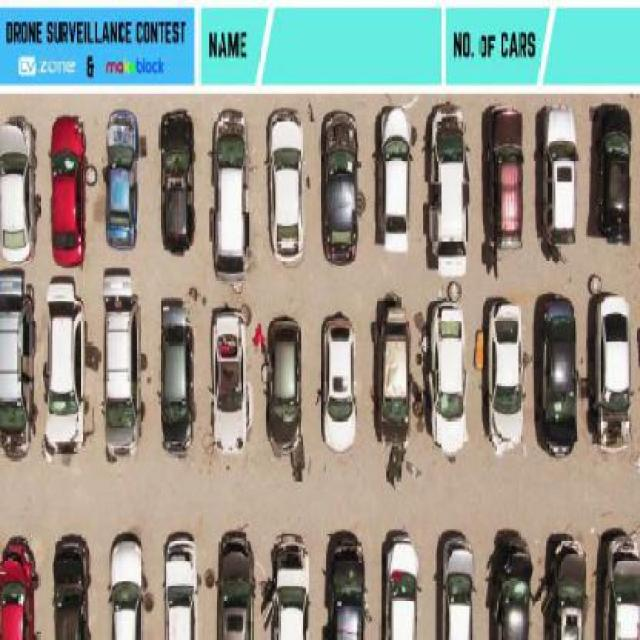car: (207, 108, 253, 280), (42, 283, 87, 452), (425, 104, 470, 269), (535, 291, 580, 456), (104, 286, 146, 456), (264, 108, 308, 266), (592, 289, 636, 445), (159, 293, 201, 453), (321, 107, 363, 266), (428, 294, 468, 456), (208, 304, 250, 458), (483, 102, 527, 246), (158, 110, 200, 257), (48, 114, 88, 266), (0, 274, 33, 455), (593, 99, 635, 241), (371, 296, 409, 451), (488, 295, 524, 452), (264, 312, 303, 456), (541, 101, 580, 245), (0, 117, 37, 265), (378, 101, 413, 248), (105, 106, 141, 246), (322, 313, 358, 453), (325, 529, 368, 639), (49, 531, 92, 640), (214, 528, 254, 640), (270, 532, 310, 640), (545, 537, 587, 639), (0, 533, 40, 640), (602, 530, 640, 640), (435, 529, 472, 639), (488, 537, 528, 637), (109, 530, 145, 639), (384, 532, 420, 639), (165, 530, 200, 640)
